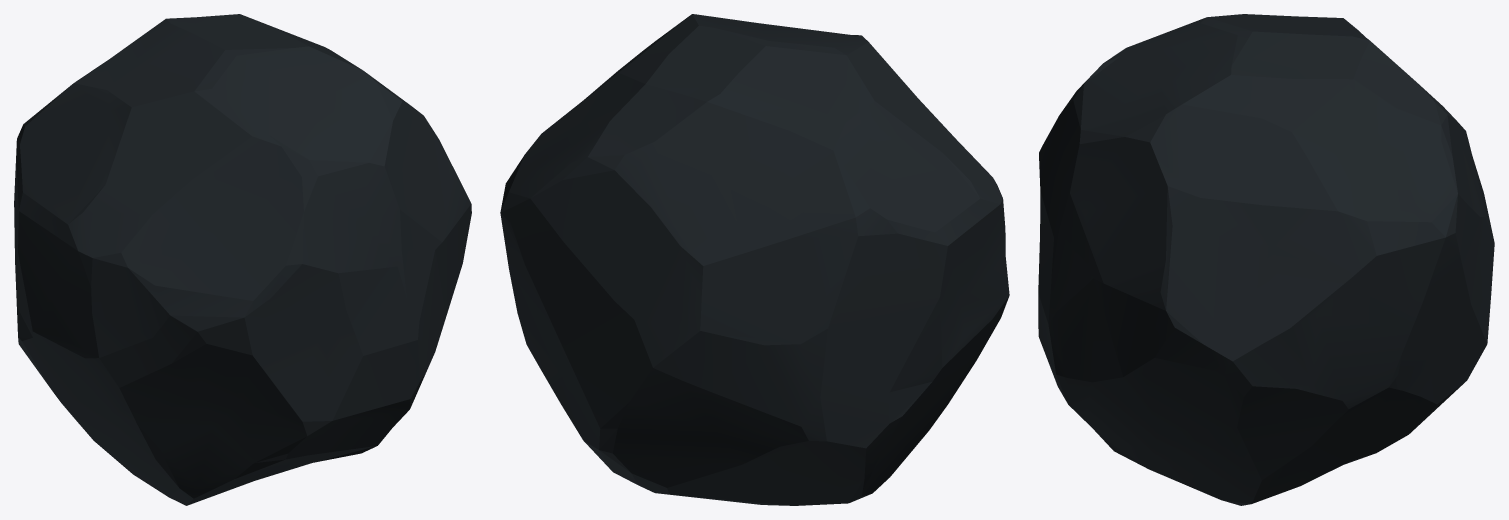
The model's file is Asteroid_m_05.FBX.
3 renders of one model, left to right at view 1: azimuth 30°, elevation 25°; view 2: azimuth 150°, elevation 25°; view 3: azimuth 270°, elevation 25°, orthographic. The views are drawn at different scales.
Parts seen in each view (by area): view 1: Asteroid_m_05; view 2: Asteroid_m_05; view 3: Asteroid_m_05.
Boxes of the visible parts, box(x1,y1,x2,y2) form: Asteroid_m_05: box(14, 14, 471, 505); Asteroid_m_05: box(500, 14, 1009, 505); Asteroid_m_05: box(1038, 14, 1494, 505).
Bounding box in the file's own units: 785 × 754 × 738.
